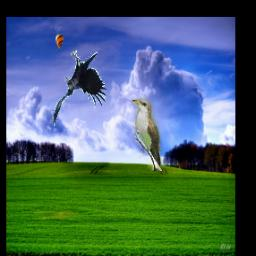Crow: (53, 50, 107, 126)
Cuckoo: (132, 98, 164, 171)
